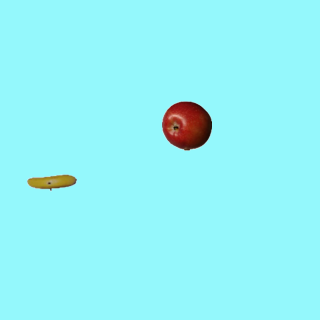Apple Braeburn: (161, 100, 211, 150)
Banana: (26, 157, 76, 207)
